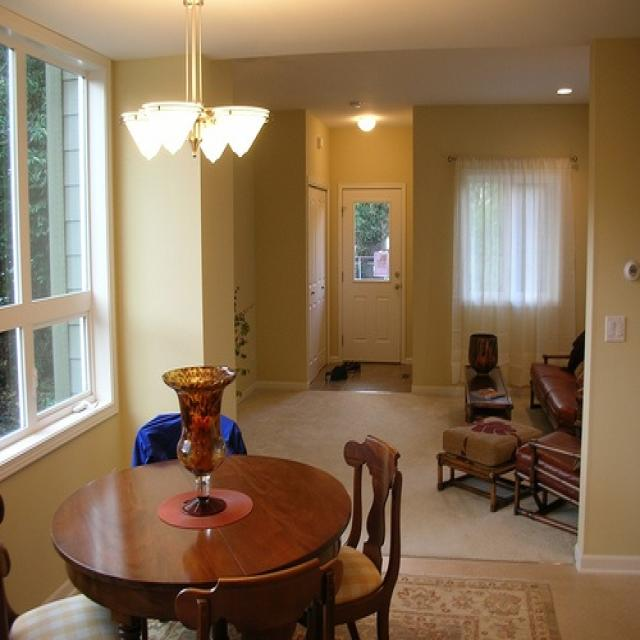chair: (310, 434, 403, 638), (0, 495, 123, 637), (172, 555, 346, 638), (513, 417, 581, 538)
diningtable: (50, 452, 353, 638)
pottedplant: (236, 283, 256, 401)
sofa: (530, 326, 584, 432)
